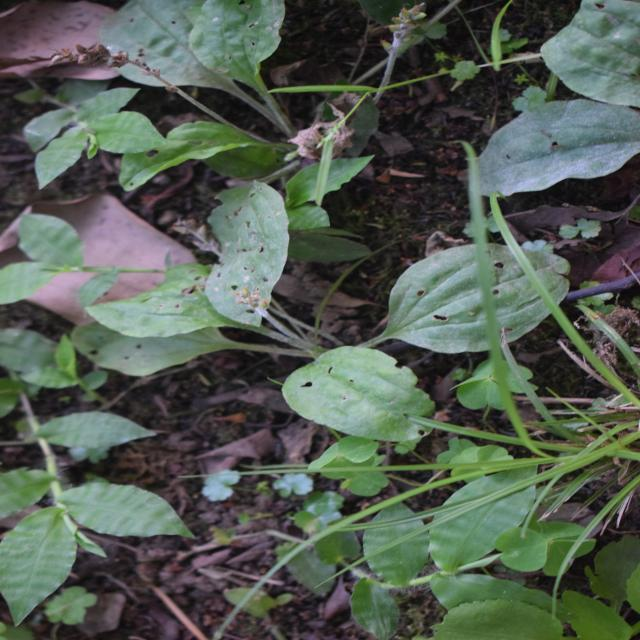plantain: (213, 96, 448, 526)
